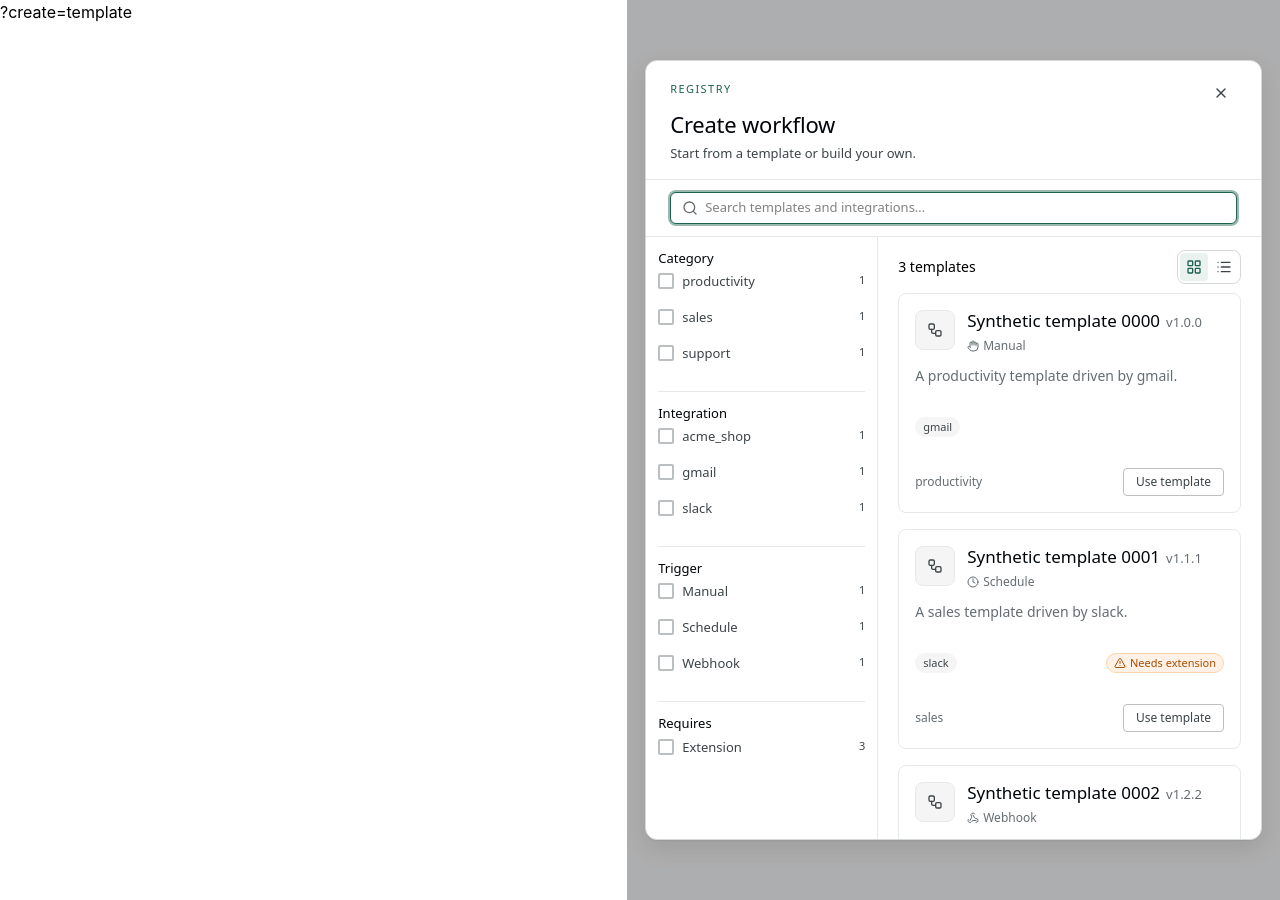
Test: names the optional Project selector from its visible label and preserves project selection
The width and height of the screenshot is (1280, 900).
Step 1. Click the button "Synthetic template 0000v1.0.0" → (1096, 321), box [967, 310, 1224, 333]
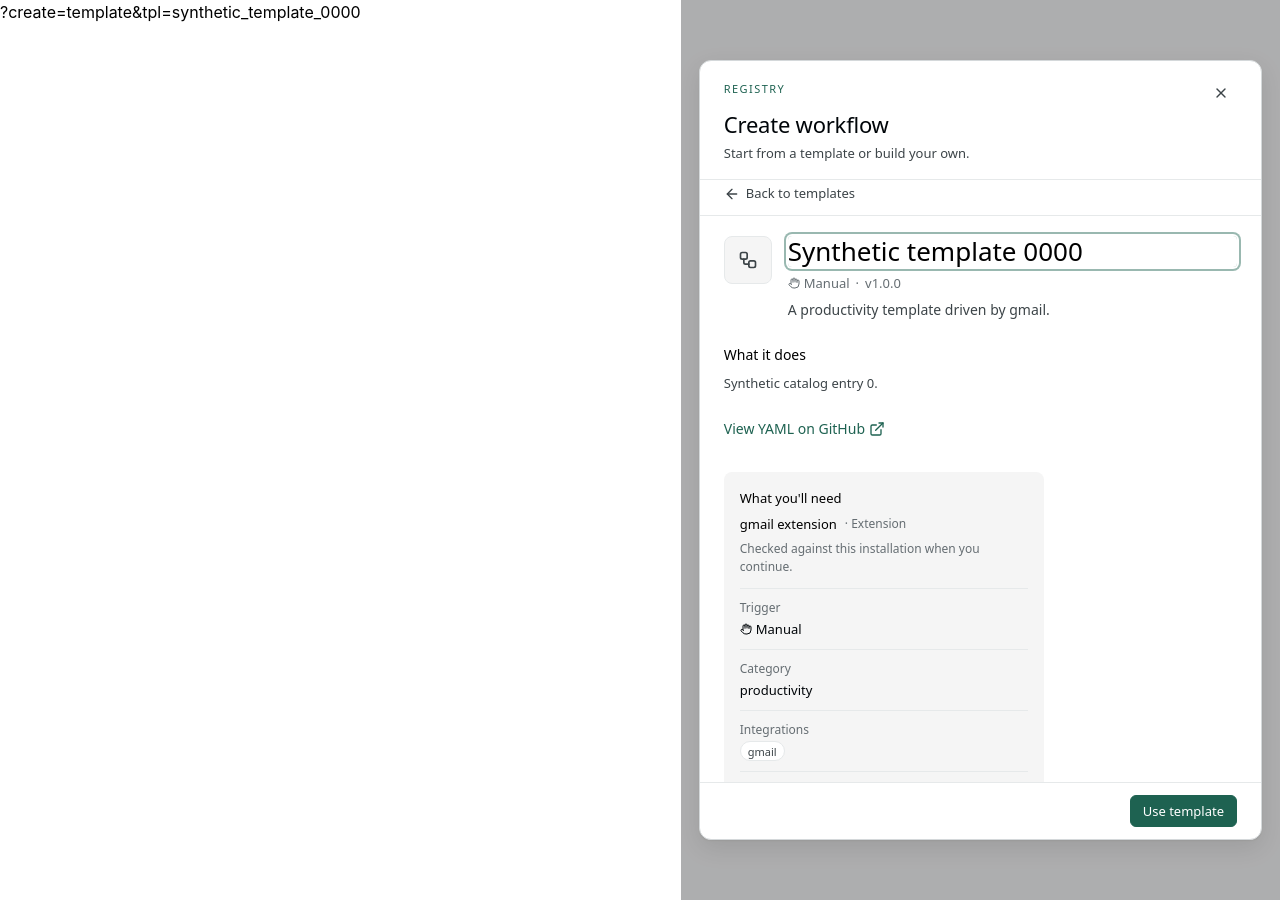
Step 2. Click the button "Use template" → (1183, 811), box [1130, 795, 1237, 827]
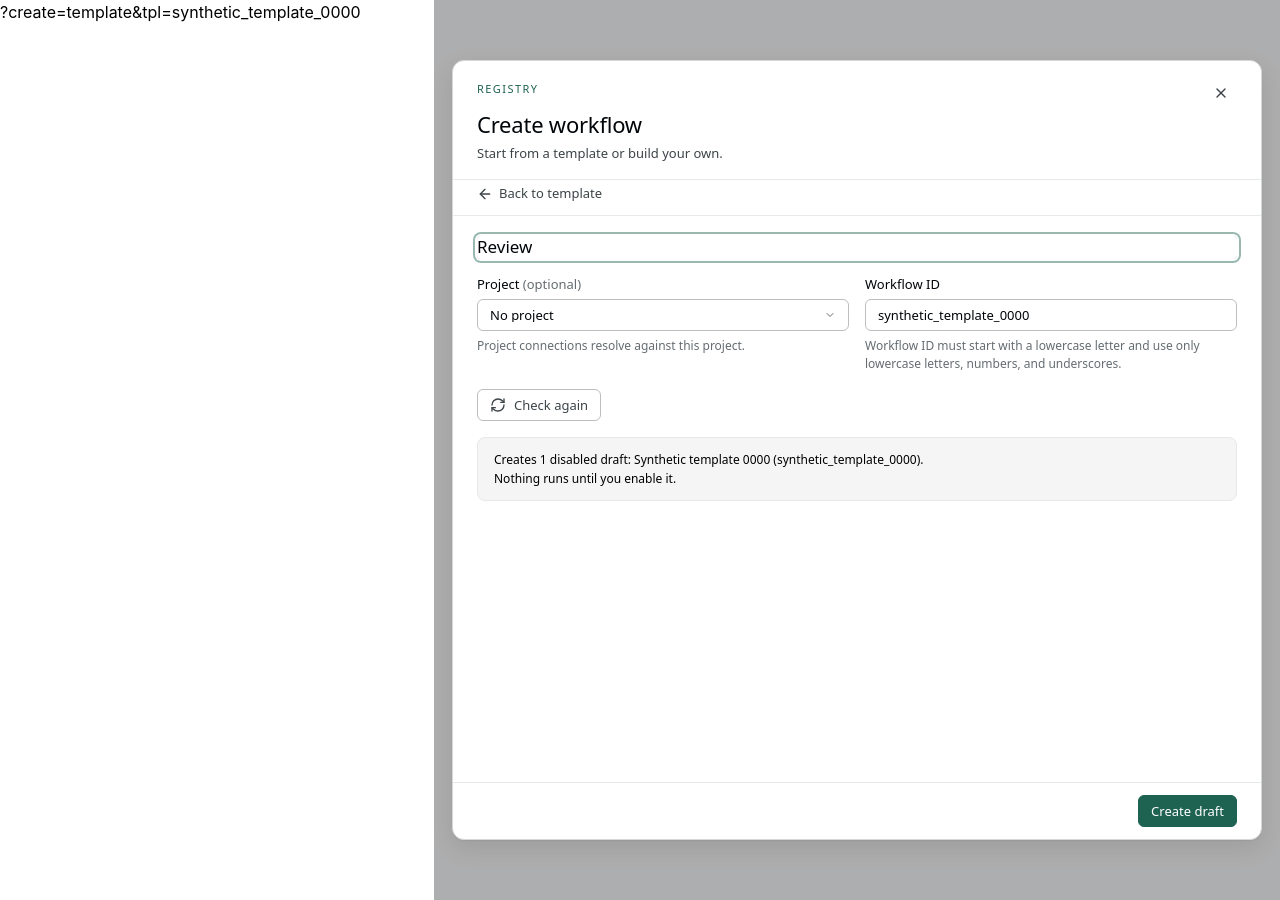
Now the heading "Review" is shown, box [477, 236, 1237, 259]
Now the dropdown named "Project (optional)" reads "No project"
Step 3. Click the dropdown named "Project (optional)" → (522, 315), box [477, 299, 849, 331]
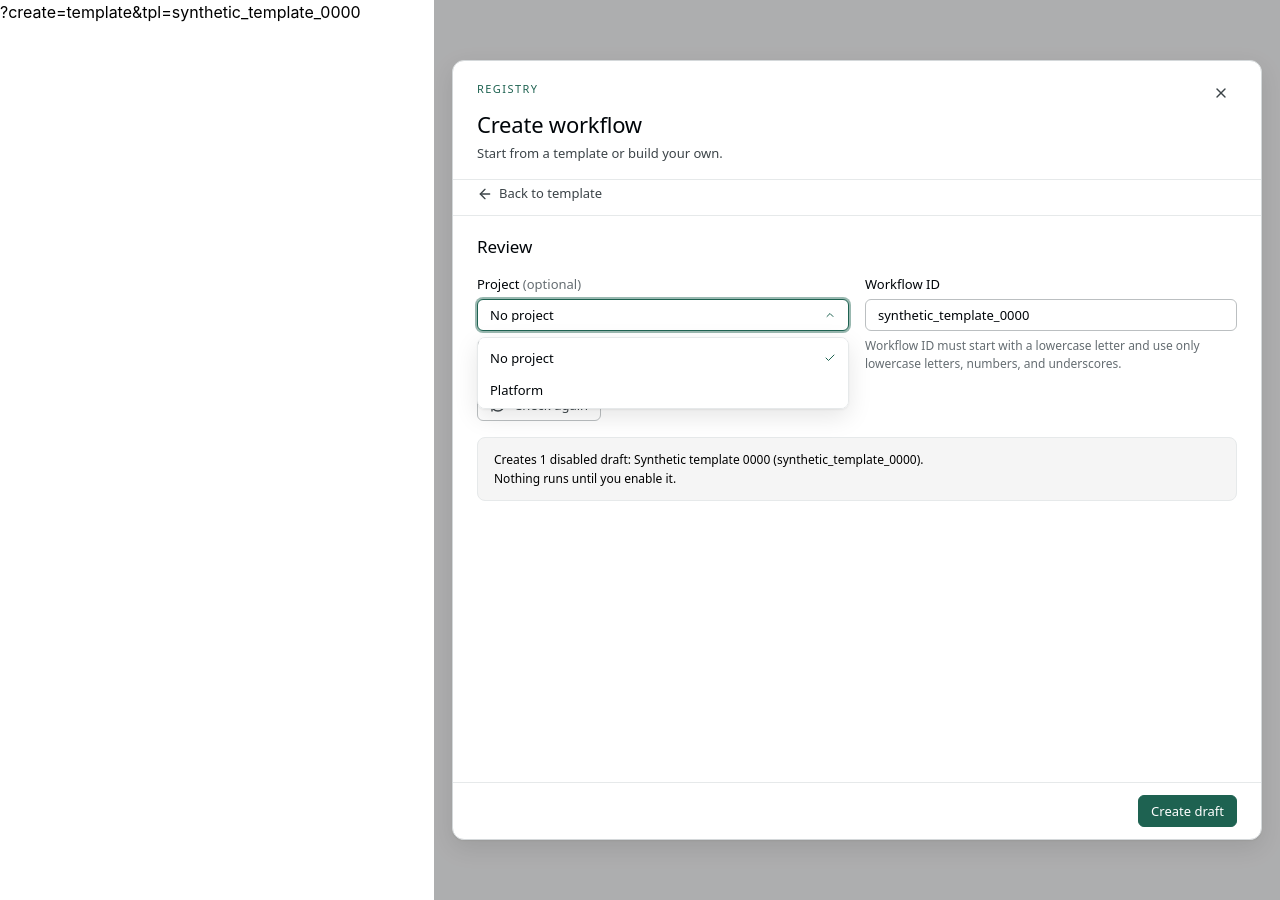
Step 4. Click the option "Platform" → (517, 390), box [482, 374, 844, 406]
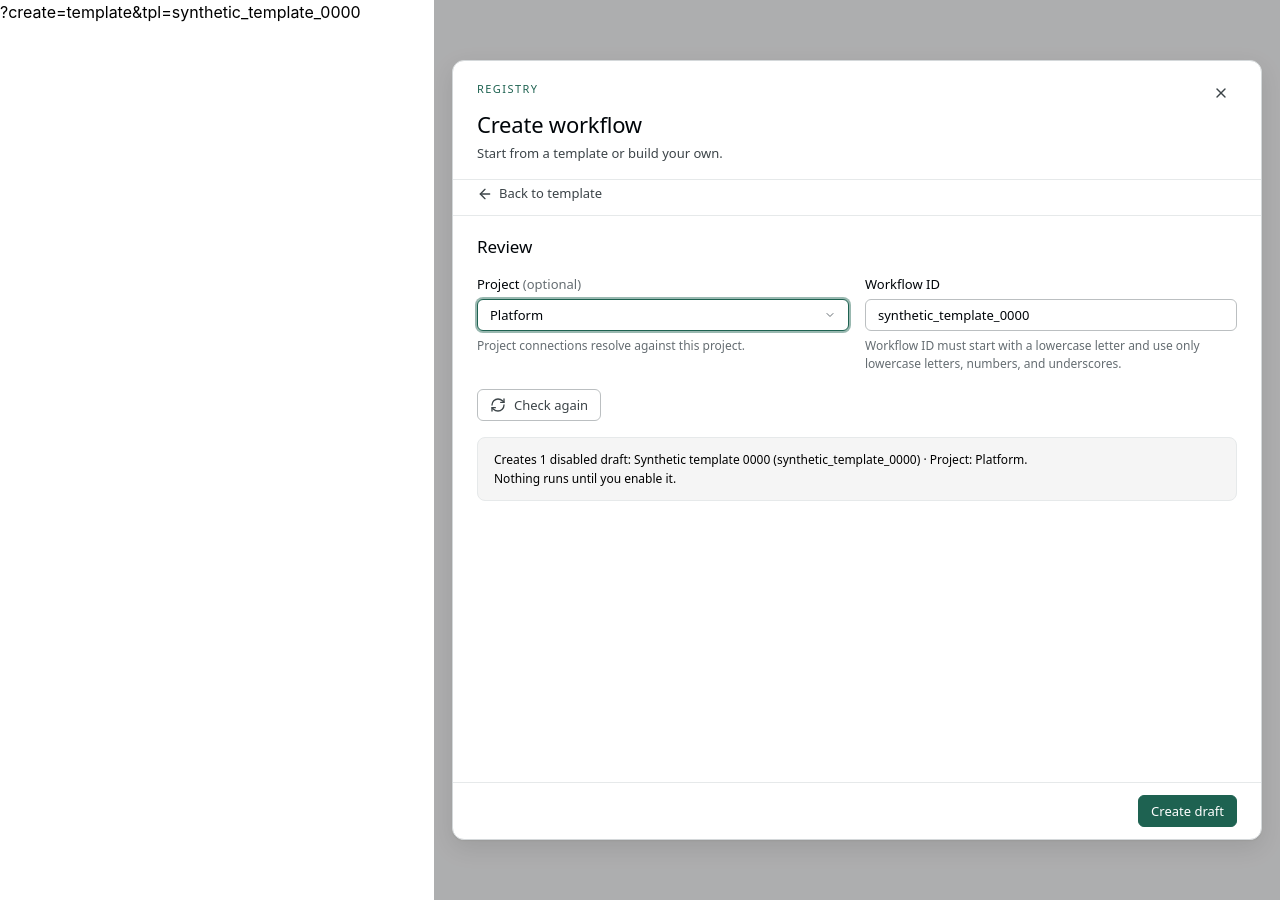
Now the dropdown named "Project (optional)" reads "Platform", box [477, 299, 849, 331]
